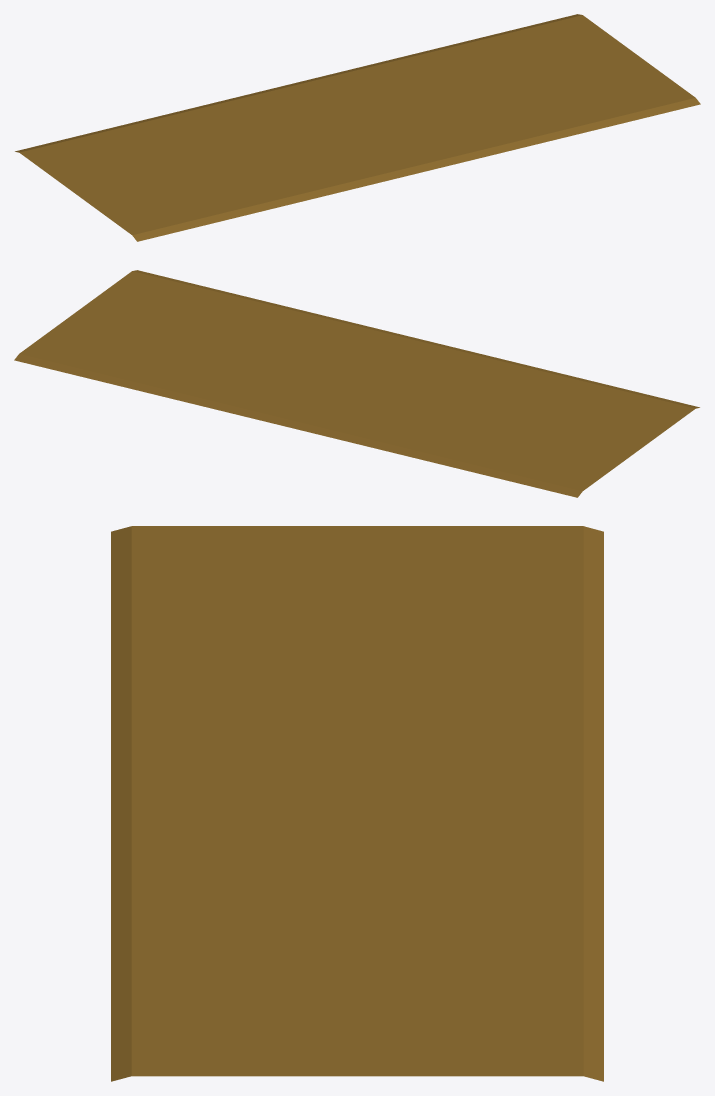
File: path_test.fbx
3 views of the same model, one above another, from view 1: azimuth 30°, elevation 25°; view 2: azimuth 150°, elevation 25°; view 3: azimuth 270°, elevation 25° (orthographic). The views are drawn at different scales.
Parts seen in each view (by area): view 1: path_2.001; view 2: path_2.001; view 3: path_2.001.
Boxes of the visible parts, box(x1,y1,x2,y2) form: path_2.001: box(15, 14, 700, 241); path_2.001: box(14, 270, 699, 497); path_2.001: box(111, 526, 603, 1081).
Size of the model in its own units: 1028 by 4.84 by 389.
